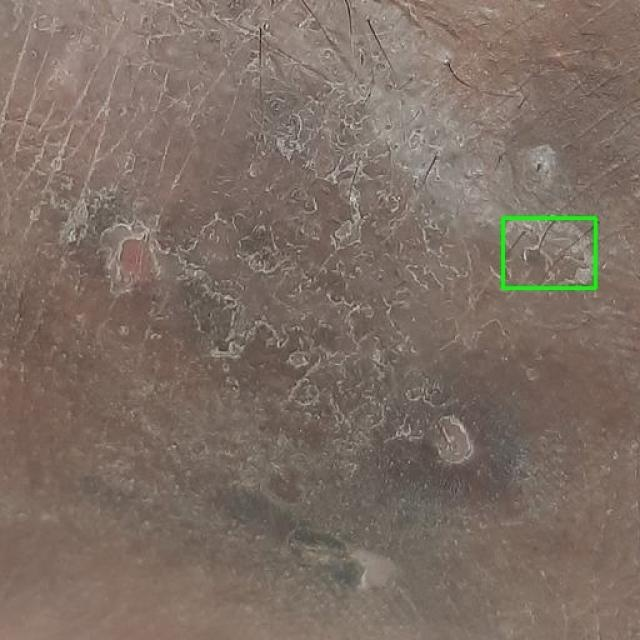Eczema: (502, 218, 595, 288)
